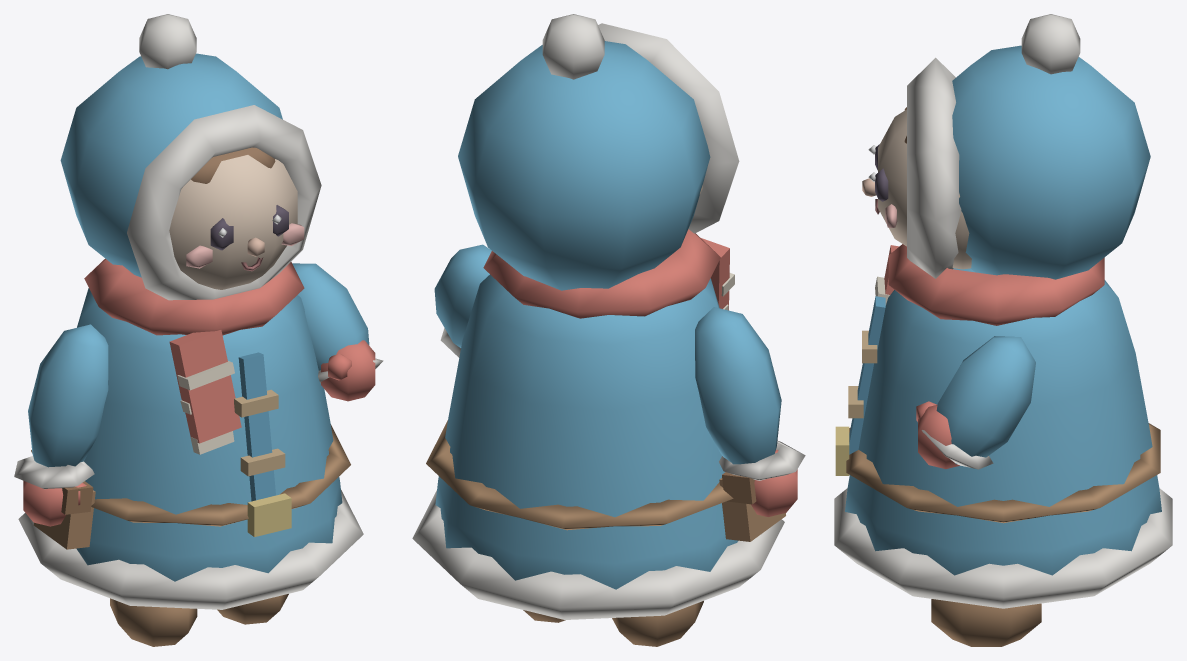
File: hero_lv1.glb
3 views of the same model, side by side, from view 1: azimuth 30°, elevation 25°; view 2: azimuth 150°, elevation 25°; view 3: azimuth 270°, elevation 25° (orthographic). The views are drawn at different scales.
Parts seen in each view (by area): view 1: hero_lv1; view 2: hero_lv1; view 3: hero_lv1.
Boxes of the visible parts, x1,y1,x2,y2 form: hero_lv1: [14, 14, 383, 646]; hero_lv1: [412, 14, 805, 646]; hero_lv1: [834, 14, 1172, 646].
Bounding box in the file's own units: 1.2 × 1.97 × 0.9986.
